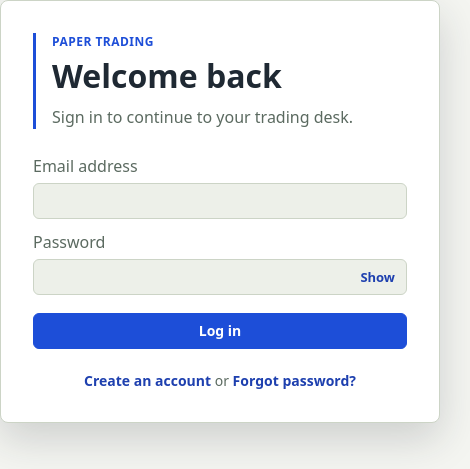
Test case: AuthForm › toggles password visibility
The image size is (470, 469).
What coordinates should you click on to do the following:
click the button with aria-label "Show password"
I would click on:
 (378, 277)
Its box is [348,259,407,295].
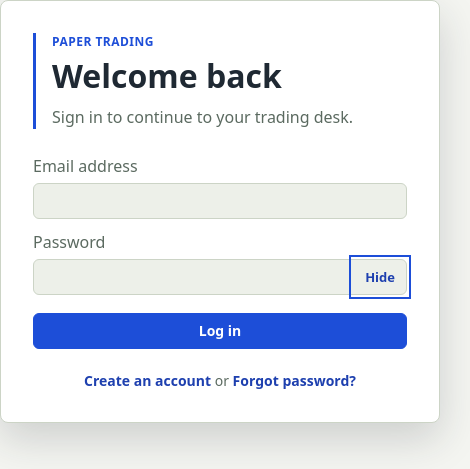
Expected: the button with aria-label "Hide password" is shown, [353,259,407,295]
